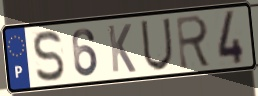4: (216, 8, 246, 67)
6: (71, 27, 101, 78)
K: (106, 22, 138, 75)
R: (174, 13, 214, 72)
S: (32, 28, 66, 83)
U: (139, 17, 175, 73)
